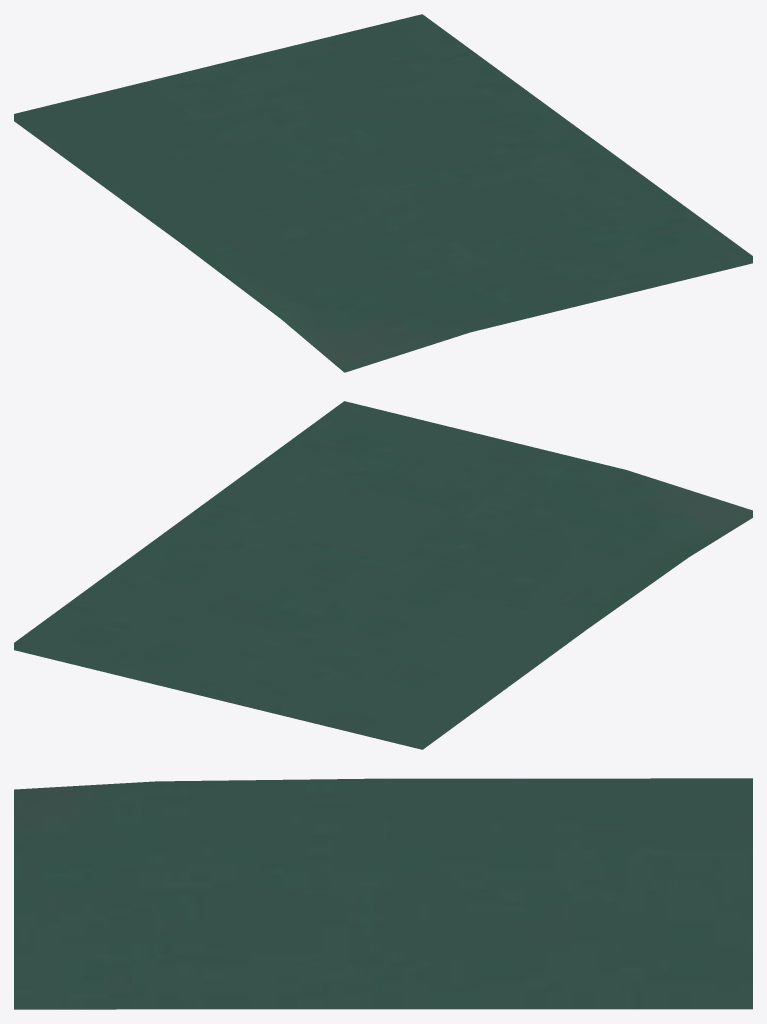
The picture shows the model from 3 angles, top to bottom: view 1: azimuth 30°, elevation 25°; view 2: azimuth 150°, elevation 25°; view 3: azimuth 270°, elevation 25°; orthographic projection. The views are drawn at different scales.
Visible parts, largest first — view 1: 30436272704370637602_0; view 2: 30436272704370637602_0; view 3: 30436272704370637602_0.
Boxes of the visible parts, x1=… form: 30436272704370637602_0: x1=14, y1=14, x2=752, y2=372; 30436272704370637602_0: x1=14, y1=401, x2=752, y2=749; 30436272704370637602_0: x1=14, y1=778, x2=752, y2=1009.
Size of the model in its own units: 27.32 by 1.1 by 38.26.
Materials: 1 (1 with a texture image).
